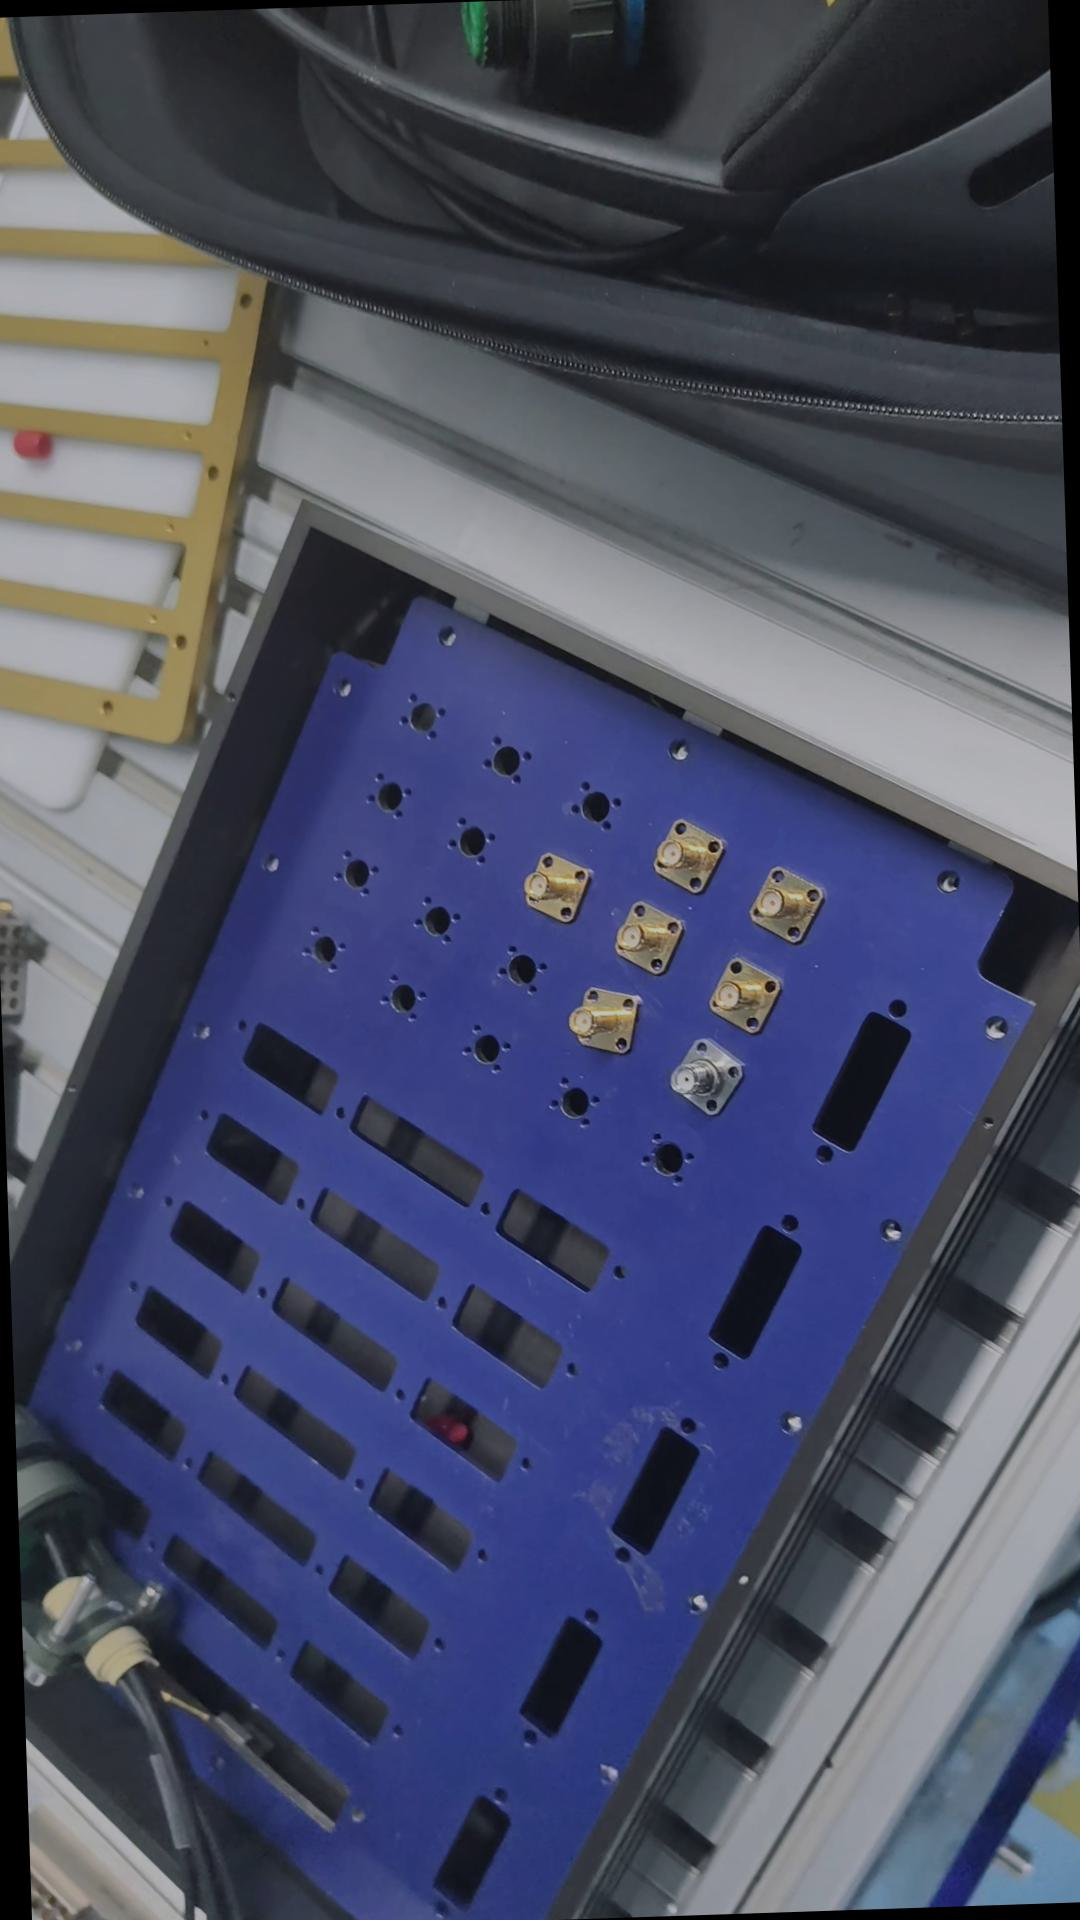SMA: (661, 1033, 746, 1116), (607, 895, 691, 977), (516, 848, 597, 928), (703, 955, 785, 1033), (559, 980, 638, 1059), (742, 868, 825, 943), (646, 814, 723, 894)
